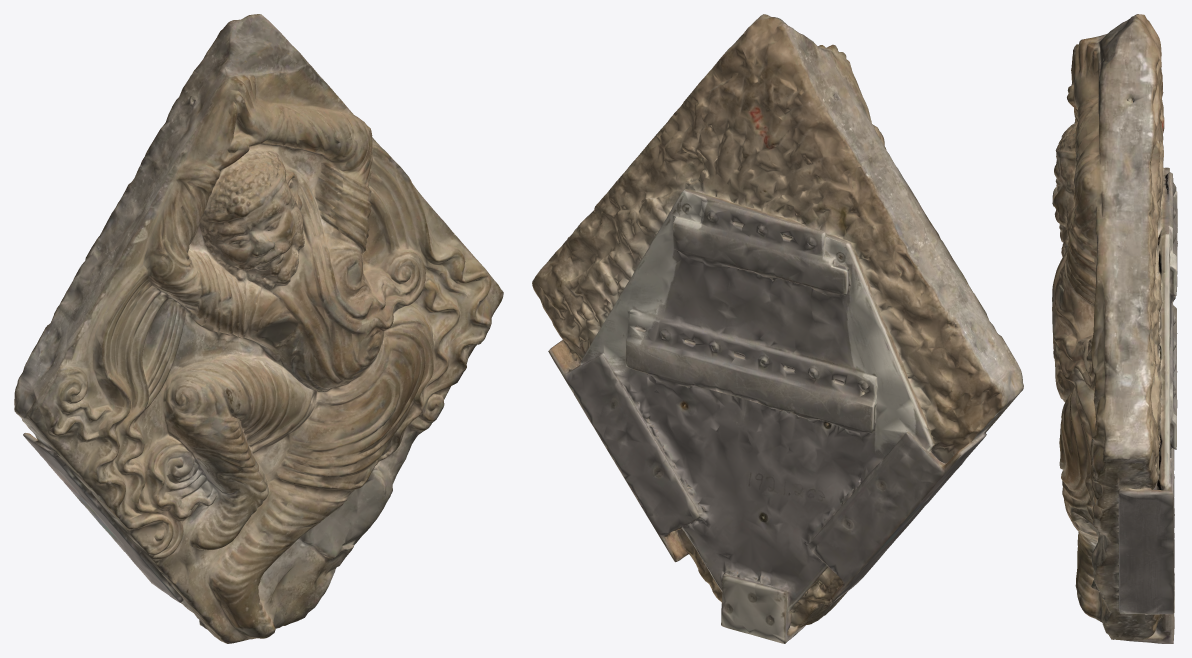
Rendered from cma-tang-terracotta-dancer-brick.glb.
3 renders of one model, left to right at view 1: azimuth 30°, elevation 25°; view 2: azimuth 150°, elevation 25°; view 3: azimuth 270°, elevation 25°, orthographic.
Parts seen in each view (by area): view 1: 1921.263_architectural_brick_with_dancer_in_relief; view 2: 1921.263_architectural_brick_with_dancer_in_relief; view 3: 1921.263_architectural_brick_with_dancer_in_relief.
Part boxes in pixels (left/top/right/bottom): 1921.263_architectural_brick_with_dancer_in_relief: left=14, top=14, right=503, bottom=643; 1921.263_architectural_brick_with_dancer_in_relief: left=532, top=14, right=1023, bottom=643; 1921.263_architectural_brick_with_dancer_in_relief: left=1052, top=14, right=1177, bottom=643.
Bounding box in the file's own units: 0.4699 × 0.5799 × 0.1077.
Materials: 1 (1 with a texture image).
